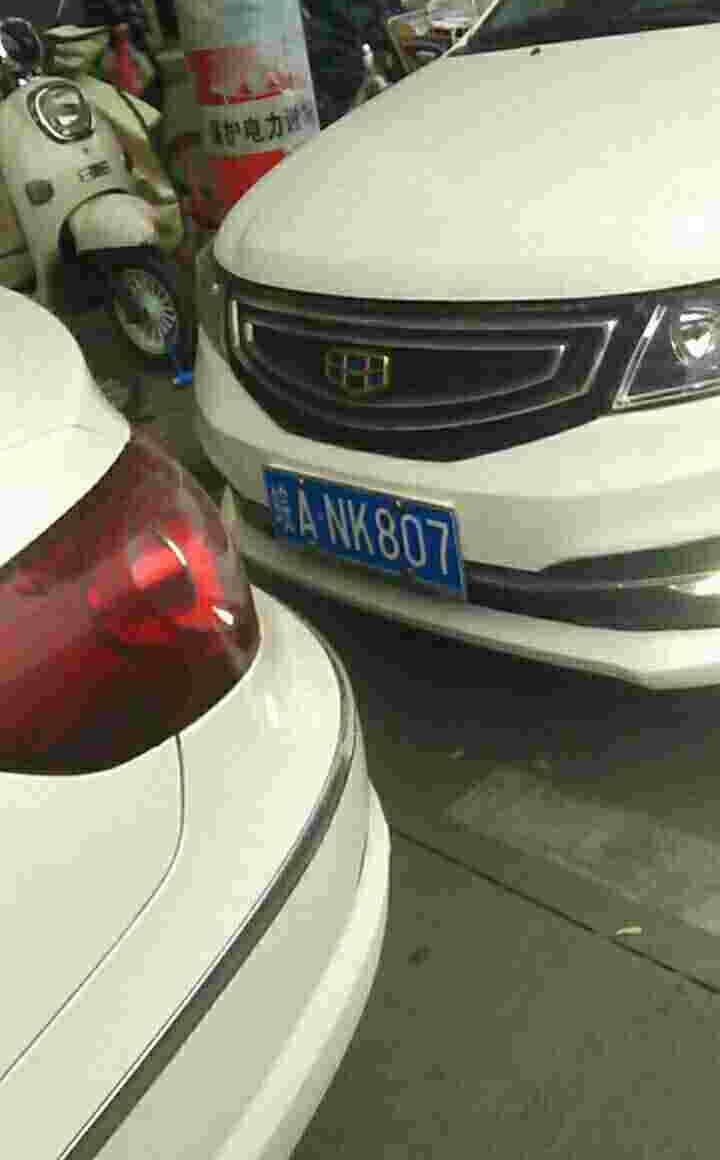license_plate: (269, 479, 472, 573)
